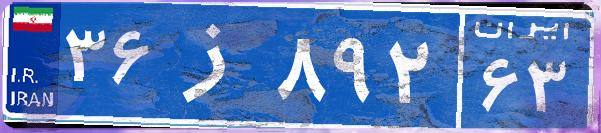2: (385, 28, 445, 110)
3: (57, 26, 110, 107), (525, 38, 570, 115)
6: (475, 38, 525, 113), (110, 28, 158, 105)
8: (273, 28, 330, 110)
9: (330, 28, 385, 110)
ز: (158, 15, 273, 115)
